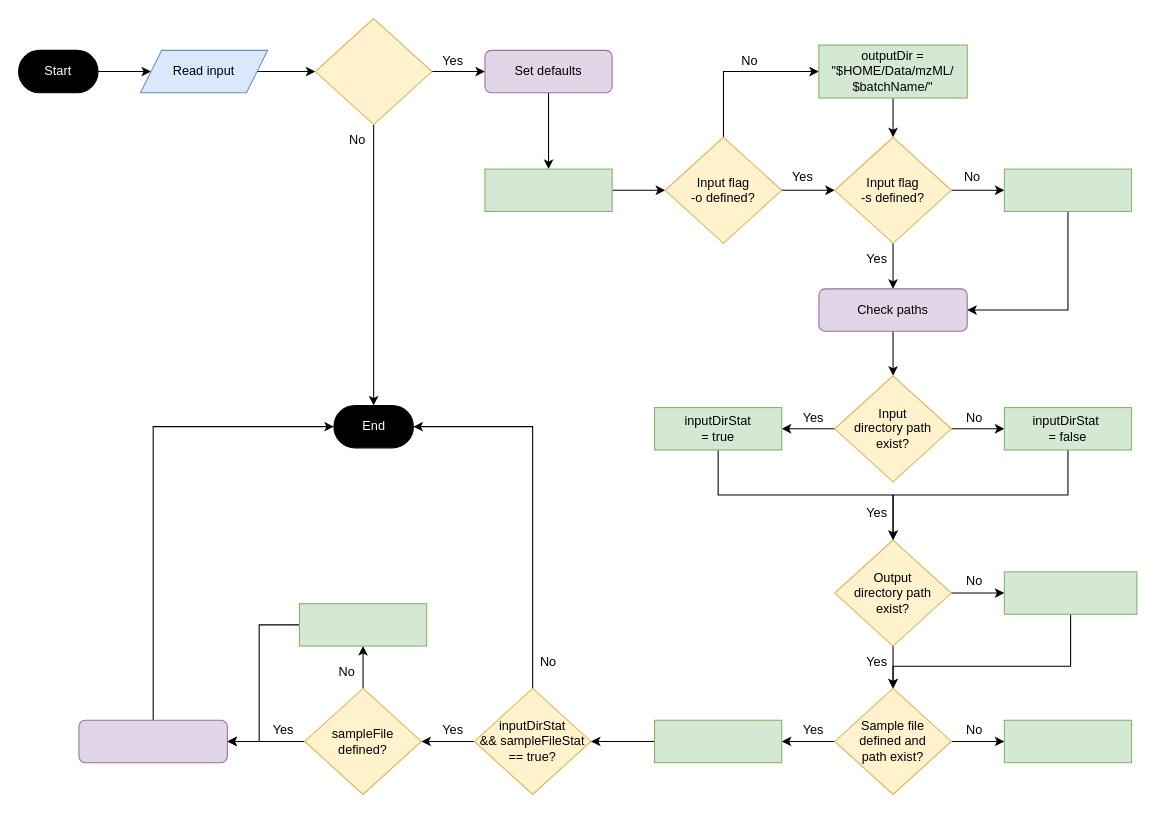
The diagram is 1155 pixels wide and 813 high, and some of its shapes have lost their labels. Each missing label, with the centre of its shape:
Create path: pixel 1070 592
Execute Docker container: pixel 152 741
Extract batchName: pixel 548 189
Input flag -i defined?: pixel 373 71
sampleFile = "*.*": pixel 362 624
sampleFile = undefined: pixel 1067 189
sampleFileStat = false: pixel 1067 741
sampleFileStat = true: pixel 717 741
